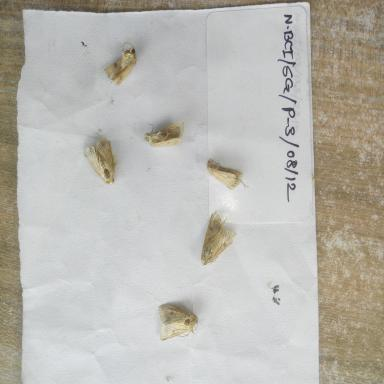abw: (197, 204, 240, 272), (76, 128, 122, 188), (154, 298, 203, 348), (101, 36, 140, 90), (203, 154, 250, 196), (142, 115, 188, 154)
